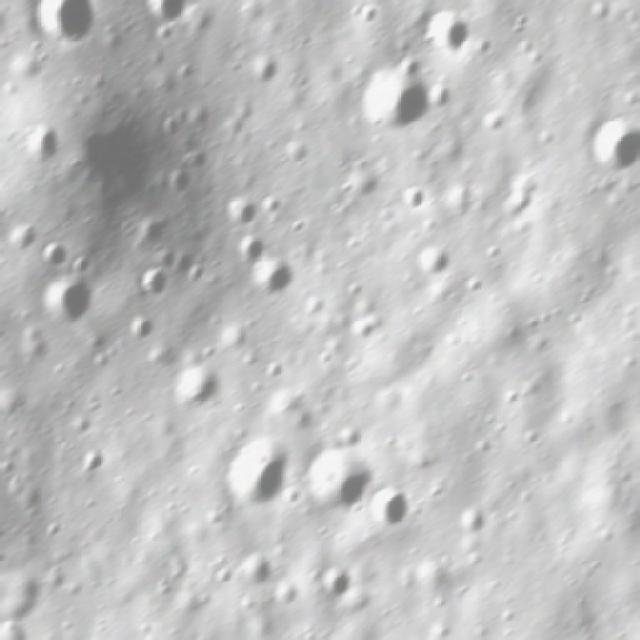crater: (64, 92, 179, 216), (346, 57, 439, 134), (218, 438, 291, 518), (299, 447, 372, 518), (30, 5, 101, 57), (584, 114, 638, 178), (38, 274, 96, 331), (415, 7, 479, 58), (170, 358, 230, 412), (248, 255, 298, 313), (362, 484, 415, 538), (408, 241, 457, 284), (24, 121, 64, 167), (451, 502, 491, 541), (134, 262, 172, 303), (121, 312, 162, 350), (3, 222, 43, 258), (313, 568, 355, 602), (247, 56, 284, 92), (224, 194, 259, 232), (36, 239, 75, 273), (239, 555, 276, 590), (234, 231, 266, 271), (349, 309, 383, 346), (398, 180, 430, 218), (81, 442, 113, 480), (270, 582, 301, 610), (476, 112, 510, 136), (153, 24, 178, 48)
